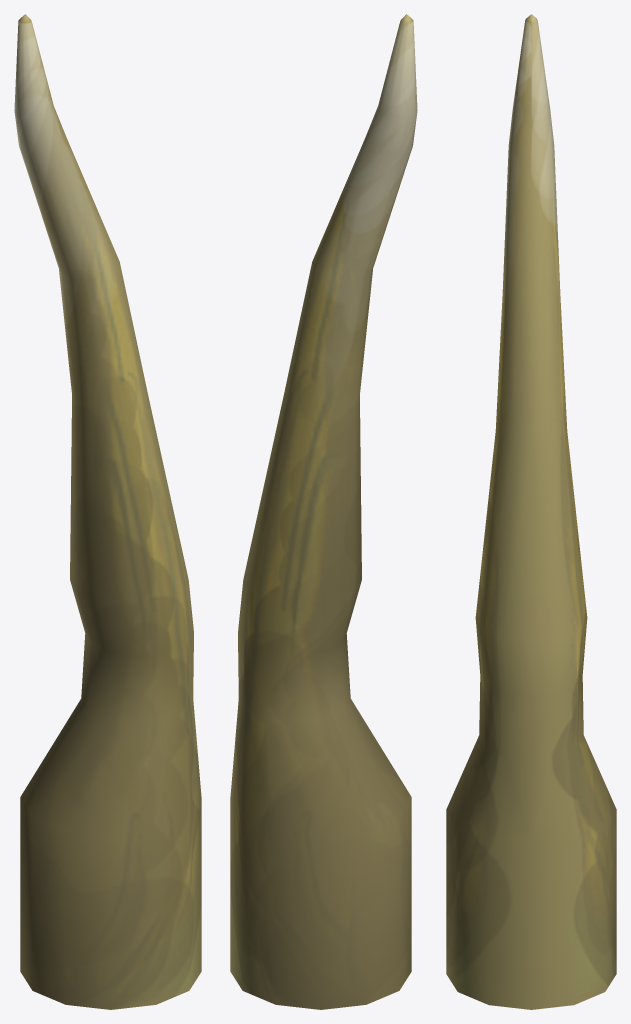
File: Branch_04.fbx
3 renders of one model, left to right at view 1: azimuth 30°, elevation 25°; view 2: azimuth 150°, elevation 25°; view 3: azimuth 270°, elevation 25°, orthographic. The views are drawn at different scales.
Visible parts, largest first — view 1: Mesh; view 2: Mesh; view 3: Mesh.
Part boxes in pixels (x1,y1,x2,y2): Mesh: [14, 14, 201, 1009]; Mesh: [230, 14, 417, 1009]; Mesh: [446, 14, 616, 1009].
Bounding box in the file's own units: 10.79 × 58.6 × 9.83.
